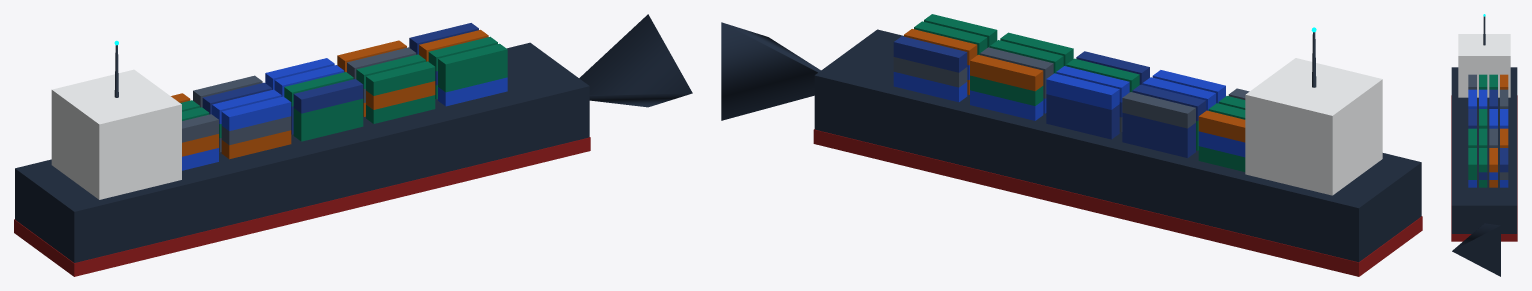
File: carga-ship.glb
3 views of the same model, side by side, from view 1: azimuth 30°, elevation 25°; view 2: azimuth 150°, elevation 25°; view 3: azimuth 270°, elevation 25° (orthographic). The views are drawn at different scales.
Visible parts, largest first — view 1: CargaShip; view 2: CargaShip; view 3: CargaShip.
Boxes of the visible parts, x1,y1,x2,y2 form: CargaShip: (14, 14, 692, 276); CargaShip: (721, 14, 1422, 276); CargaShip: (1451, 14, 1517, 276).
Size of the model in its own units: 120 by 39.06 by 20.2.
